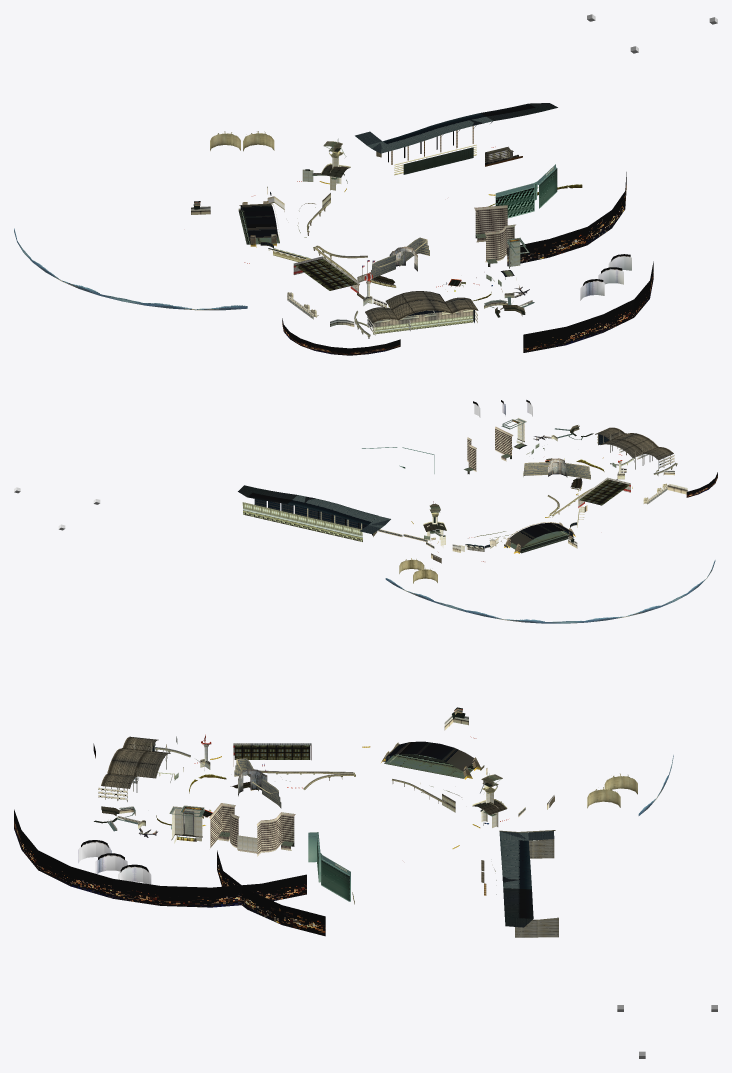
The model's file is track-B2_C1_V2_env.glb.
The picture shows the model from 3 angles, top to bottom: view 1: azimuth 30°, elevation 25°; view 2: azimuth 150°, elevation 25°; view 3: azimuth 270°, elevation 25°; orthographic projection. The views are drawn at different scales.
Visible parts, largest first — view 1: B2_C1_V2_env; view 2: B2_C1_V2_env; view 3: B2_C1_V2_env.
Boxes of the visible parts, x1,y1,x2,y2 form: B2_C1_V2_env: [14, 14, 717, 355]; B2_C1_V2_env: [14, 400, 717, 623]; B2_C1_V2_env: [14, 707, 717, 1058].
Bounding box in the file's own units: 2822 × 179 × 2100.
96 materials, 95 textured.
